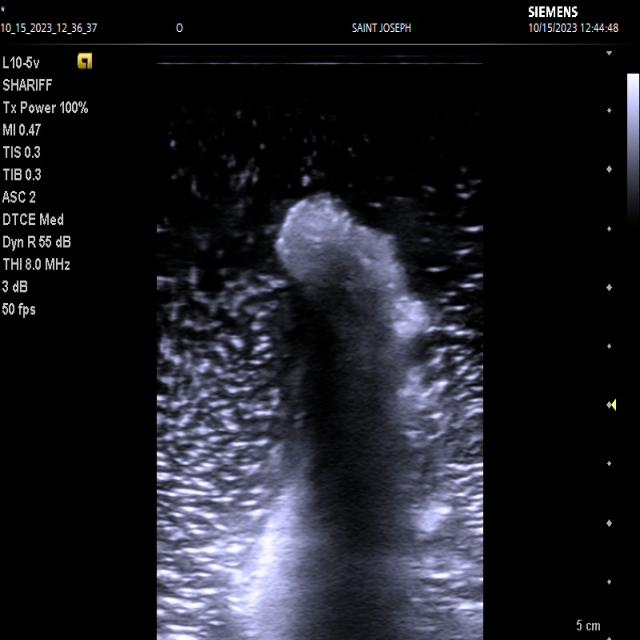tissue: (229, 193, 423, 640)
